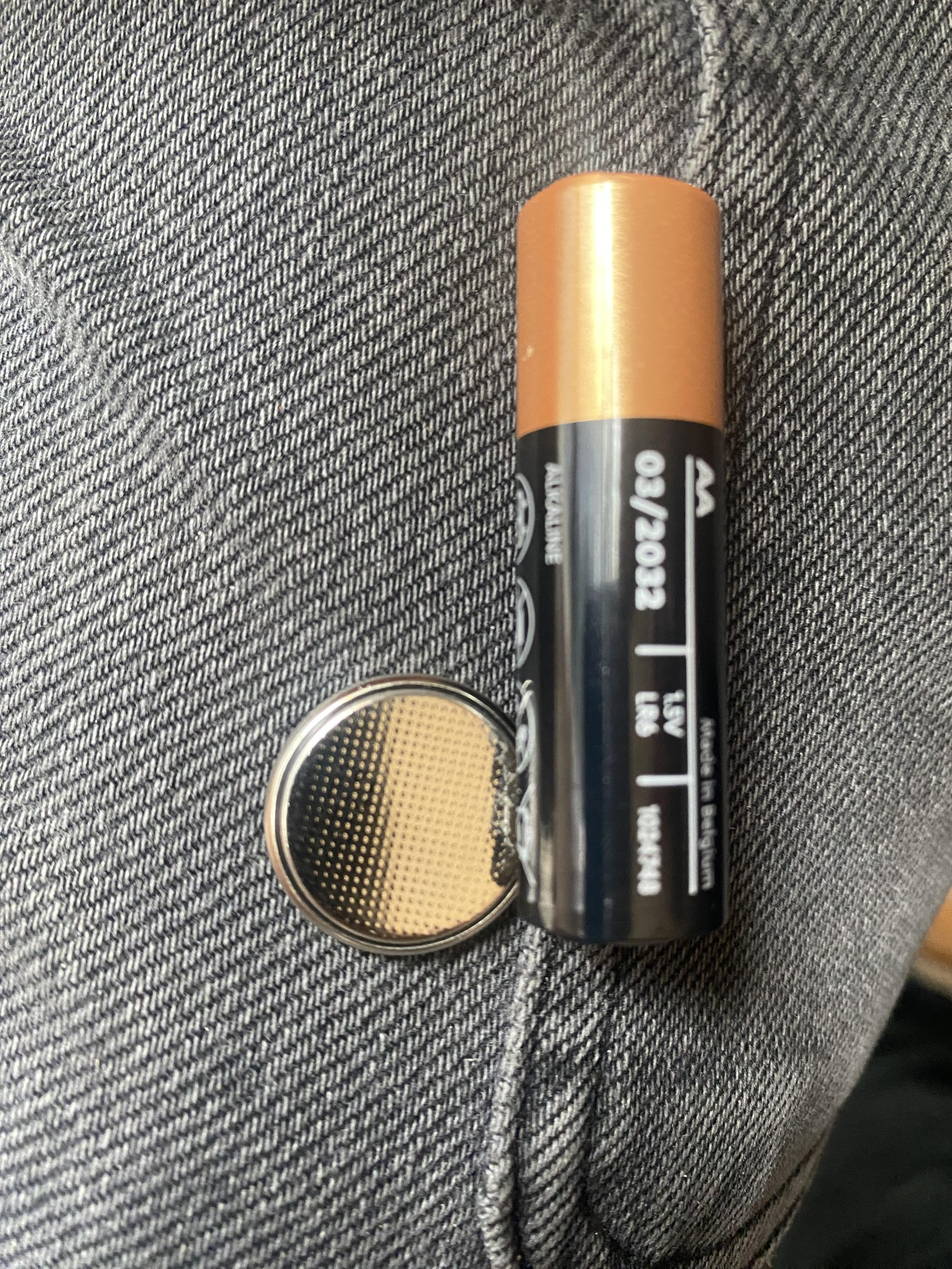AA: (505, 162, 737, 955)
COIN: (255, 668, 523, 969)
